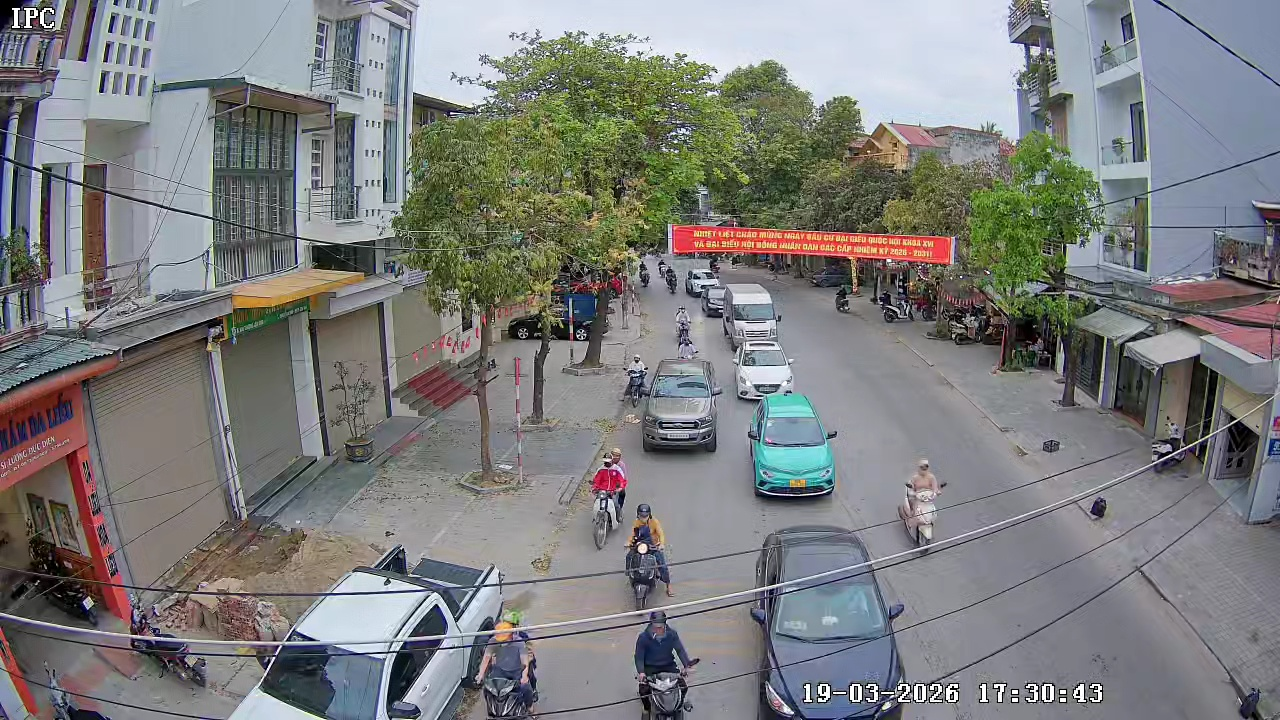bike: (589, 448, 628, 550)
car: (243, 563, 506, 719), (748, 524, 909, 719), (747, 393, 839, 500), (640, 361, 722, 452), (732, 338, 796, 401), (722, 291, 786, 347)
motorbike: (630, 607, 700, 719), (476, 610, 543, 719), (623, 501, 675, 609), (896, 457, 948, 551), (590, 476, 620, 550), (623, 353, 649, 405), (674, 310, 693, 346), (834, 287, 850, 313)
